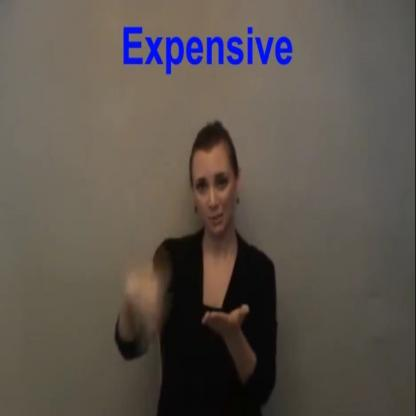Expensive: (115, 243, 255, 351)
